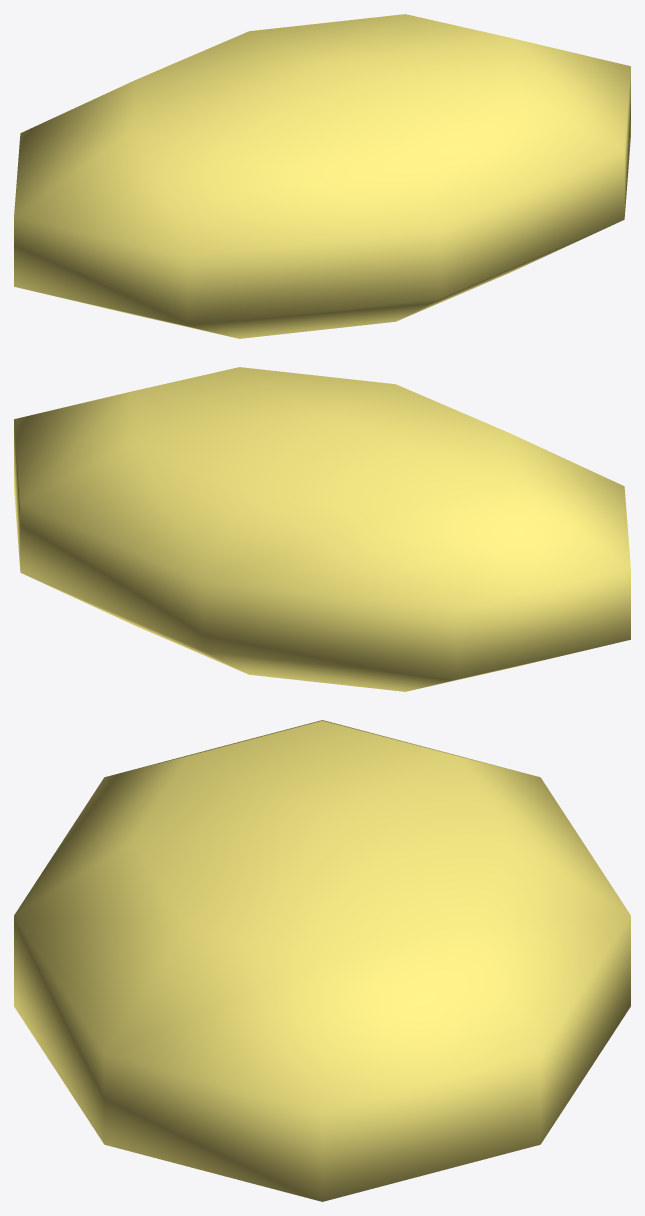
The model's file is LemonGrenadeShard.fbx.
The picture shows the model from 3 angles, top to bottom: view 1: azimuth 30°, elevation 25°; view 2: azimuth 150°, elevation 25°; view 3: azimuth 270°, elevation 25°; orthographic projection. The views are drawn at different scales.
Parts seen in each view (by area): view 1: lemon_shard; view 2: lemon_shard; view 3: lemon_shard.
Boxes of the visible parts, x1,y1,x2,y2 form: lemon_shard: (14,14,630,338); lemon_shard: (14,367,630,691); lemon_shard: (14,720,630,1201).
Size of the model in its own units: 0.1712 by 0.06 by 0.1141.
